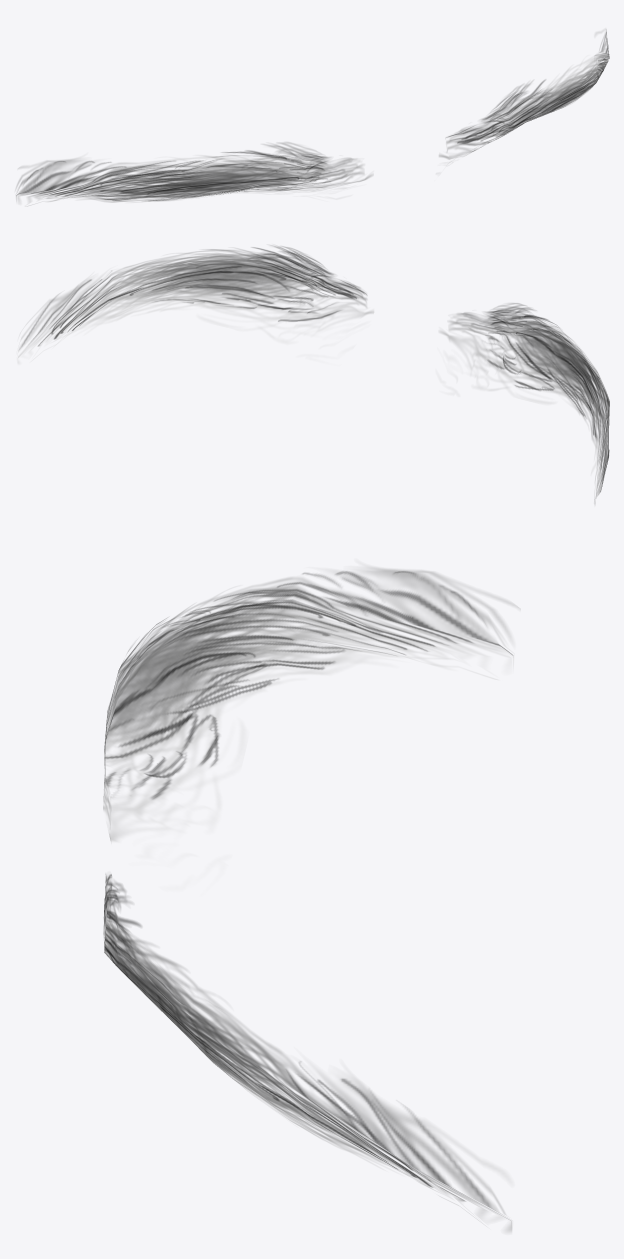
Rendered from brows_eyebrow009.gltf.
3 views of the same model, one above another, from view 1: azimuth 30°, elevation 25°; view 2: azimuth 150°, elevation 25°; view 3: azimuth 270°, elevation 25° (orthographic). The views are drawn at different scales.
Parts seen in each view (by area): view 1: brows_eyebrow009; view 2: brows_eyebrow009; view 3: brows_eyebrow009.
Boxes of the visible parts, x1,y1,x2,y2 form: brows_eyebrow009: [16, 29, 609, 202]; brows_eyebrow009: [17, 246, 609, 503]; brows_eyebrow009: [103, 567, 518, 1231].
Bounding box in the file's own units: 0.112 × 0.0189 × 0.0348.
1 material, 1 textured.
